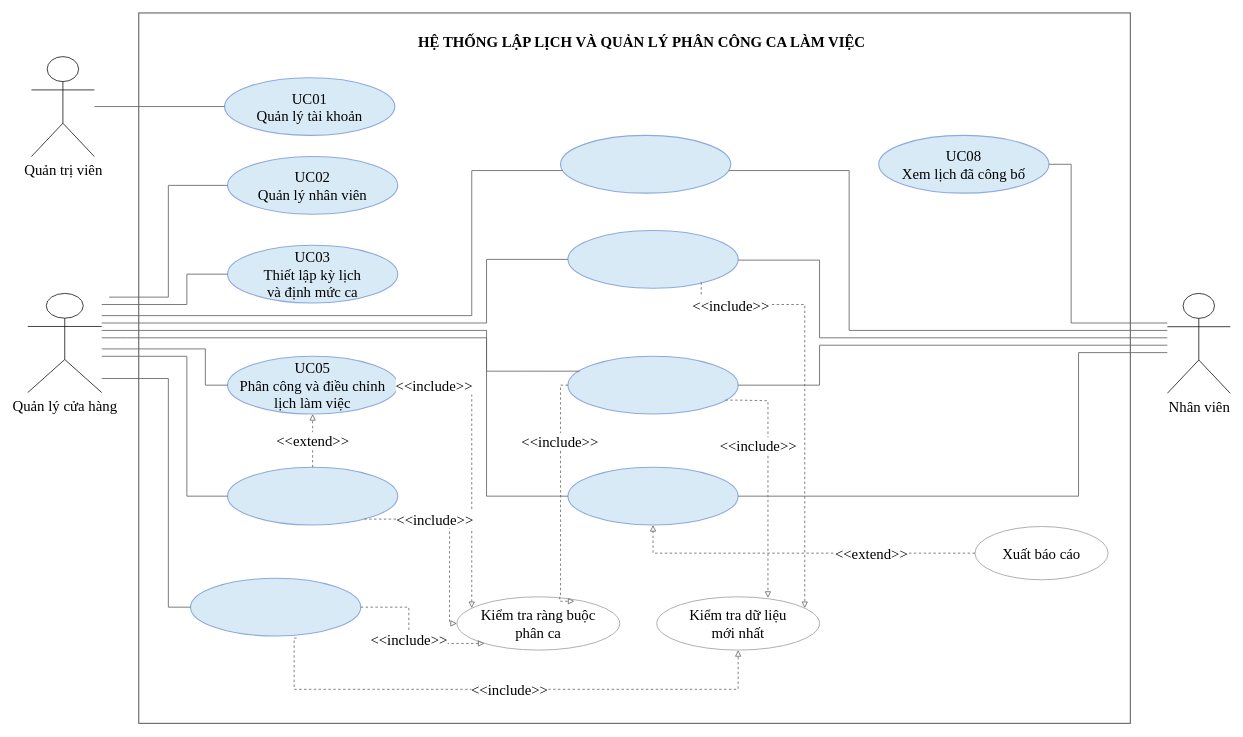
This 1243x737 diagram has some shape labels left out. Each missing label, with the box of its shape:
UC04 Quản lý lịch rảnh: (560, 135, 731, 193)
UC06 Sinh lịch đề xuất tự động: (227, 466, 398, 525)
UC07 Duyệt và công bố lịch: (190, 577, 361, 636)
UC09 Quản lý đơn xin nghỉ: (567, 230, 738, 288)
UC10 Quản lý yêu cầu đổi ca: (567, 355, 738, 414)
UC11 Tổng hợp số ca và giờ làm: (567, 466, 738, 525)
